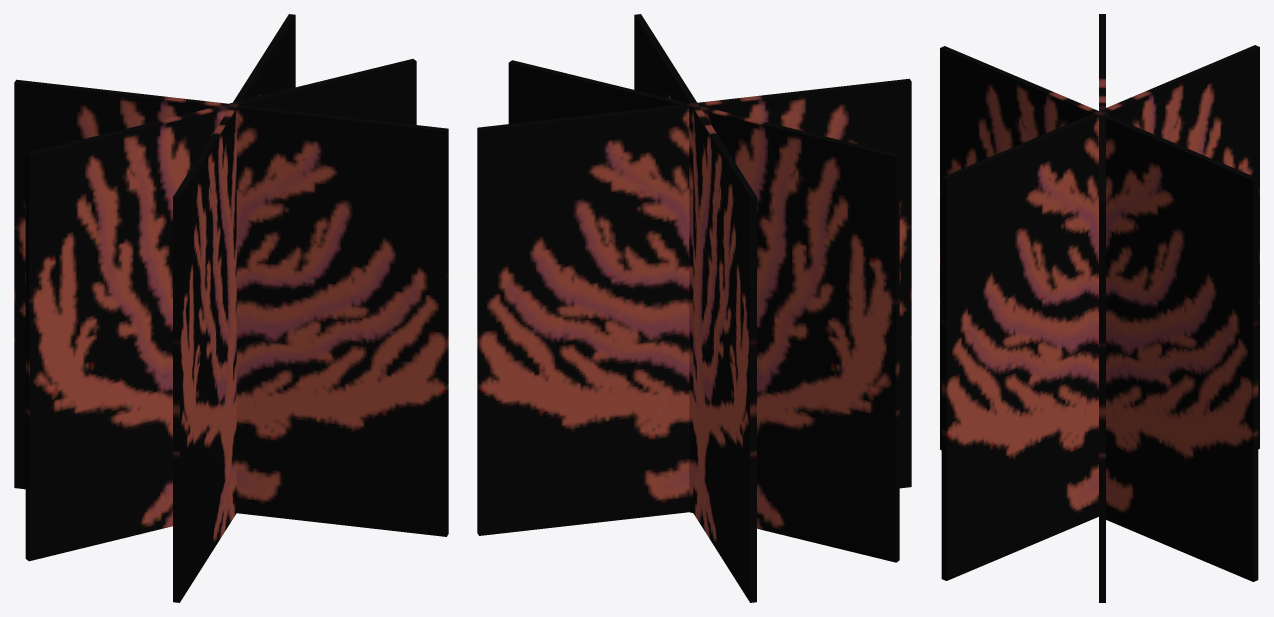
Rendered from Coral_Branch_1.obj.
3 views of the same model, side by side, from view 1: azimuth 30°, elevation 25°; view 2: azimuth 150°, elevation 25°; view 3: azimuth 270°, elevation 25° (orthographic).
Visible parts, largest first — view 1: polySurface23; view 2: polySurface23; view 3: polySurface23.
Part boxes in pixels (x1,y1,x2,y2): polySurface23: (14,14,448,602); polySurface23: (477,14,911,602); polySurface23: (940,14,1259,602).
Size of the model in its own units: 4.48 by 4.48 by 3.23.
1 material, 1 textured.
